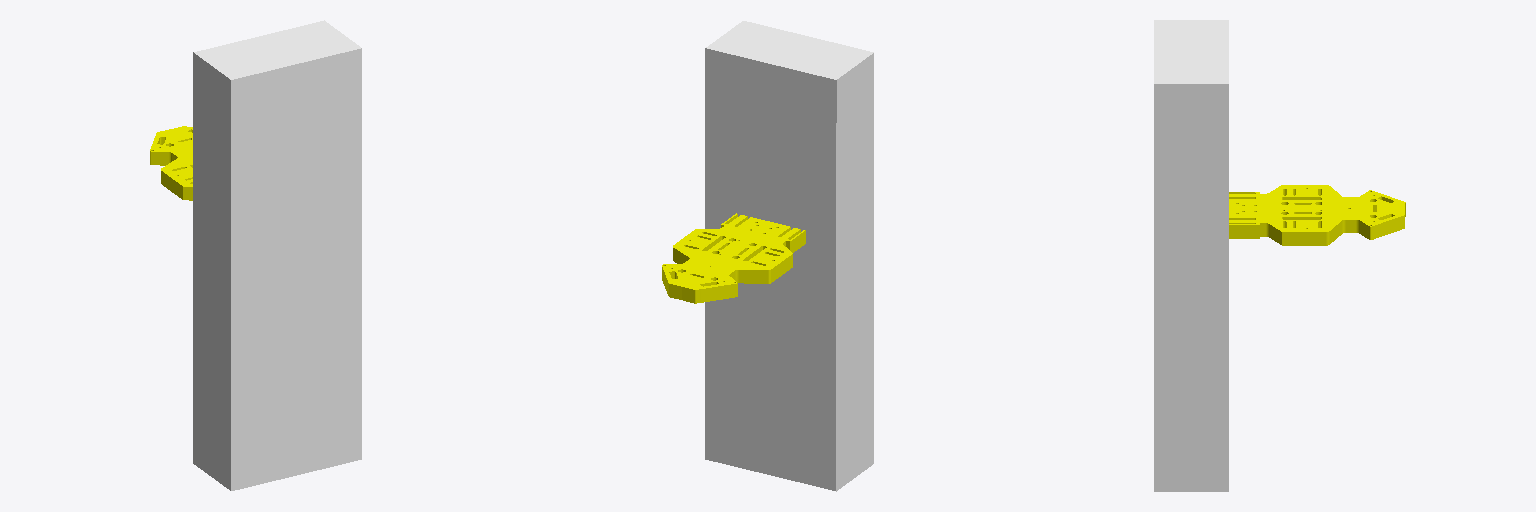
URDF robot description (visual):
<?xml version="1.0"?>
<robot name="visual">

<material name="blue">
    <color rgba="0 0 0.8 1"/>
  </material>
  <material name="black">
    <color rgba="0 0 0 1"/>
  </material>
  <material name="white">
    <color rgba="1 1 1 1"/>
  </material>
  <material name="yellow">
    <color rgba="1 1 0 1"/>
  </material>


  <link name="base_link">
    <visual>
      <geometry>
        <mesh filename="package://my_car/meshes/plate.stl" scale="0.001 0.005 0.001"/>
      </geometry>
      <origin rpy="1.57075 0 0"/>
      <material name="yellow"/>
    </visual>
  </link>

  <link name="right_leg">
    <visual>
      <geometry>
        <box size="0.6 0.1 0.2"/>
      </geometry>
      <origin rpy="0 1.57075 0" xyz="0 0 -0.3"/>
      <material name="white"/>
    </visual>
  </link>

  <joint name="base_to_right_leg" type="fixed">
    <parent link="base_link"/>
    <child link="right_leg"/>
    <origin xyz="0 -0.22 0.25"/>
  </joint>

</robot>

--- What the picture shows (computed from the rendered views, not written in the file) ---
3 views of the same robot in one strip: view 1: azimuth 30°, elevation 25°; view 2: azimuth 150°, elevation 25°; view 3: azimuth 270°, elevation 25° (orthographic).
Model visual with 2 links and 1 joints (1 fixed), rooted at base_link, posed all joints at 0.
Links seen in each view (by area): view 1: right_leg, base_link; view 2: right_leg, base_link; view 3: right_leg, base_link.
Boxes of the visible links, x1,y1,x2,y2 form: right_leg: [193, 20, 361, 490]; base_link: [150, 126, 192, 200]; right_leg: [705, 21, 873, 491]; base_link: [662, 213, 805, 303]; right_leg: [1154, 20, 1228, 491]; base_link: [1229, 185, 1405, 245].
Bounding box of the posed robot: 0.2 × 0.335 × 0.6 m (x, y, z).
Meshes: 1 distinct files referenced, 1 mesh visuals loaded (1 ASCII STL).